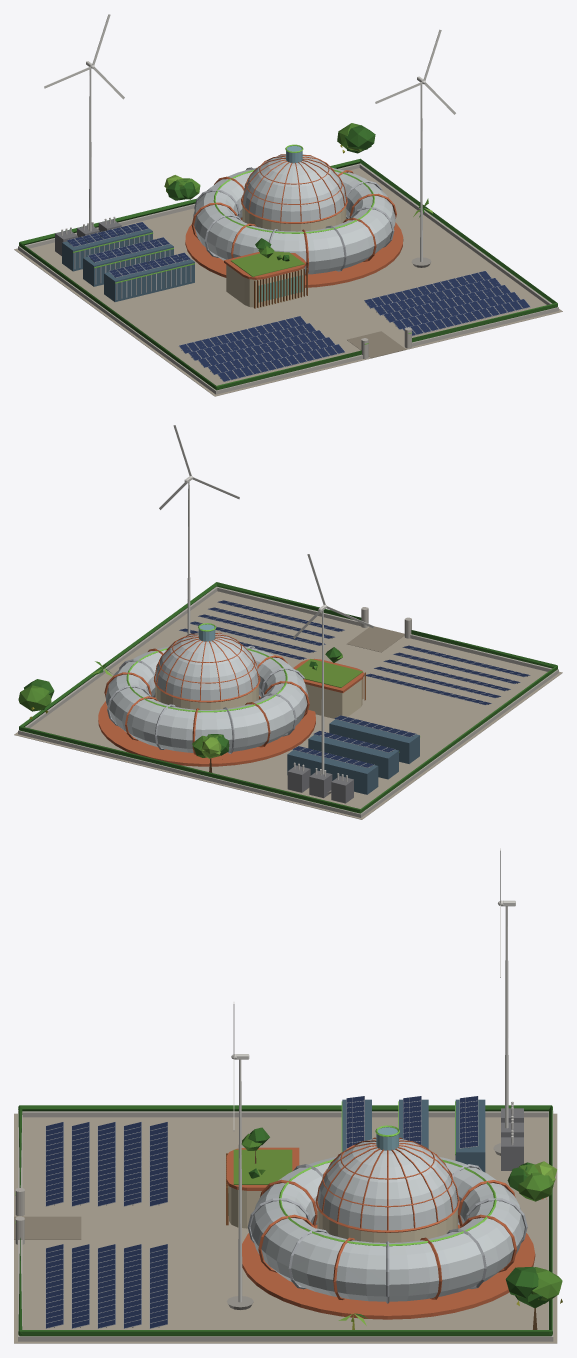
Rendered from power_plant.glb.
3 views of the same model, one above another, from view 1: azimuth 30°, elevation 25°; view 2: azimuth 150°, elevation 25°; view 3: azimuth 270°, elevation 25° (orthographic). The views are drawn at different scales.
Parts seen in each view (by area): view 1: body, windows; view 2: body, windows; view 3: body, windows.
Boxes of the visible parts, bbox=[...] form: body: bbox=[14, 14, 562, 396]; windows: bbox=[73, 144, 411, 344]; body: bbox=[14, 425, 562, 819]; windows: bbox=[126, 623, 420, 752]; body: bbox=[14, 848, 562, 1343]; windows: bbox=[15, 1101, 496, 1246].
Size of the model in its own units: 47.9 by 30.63 by 48.4.
